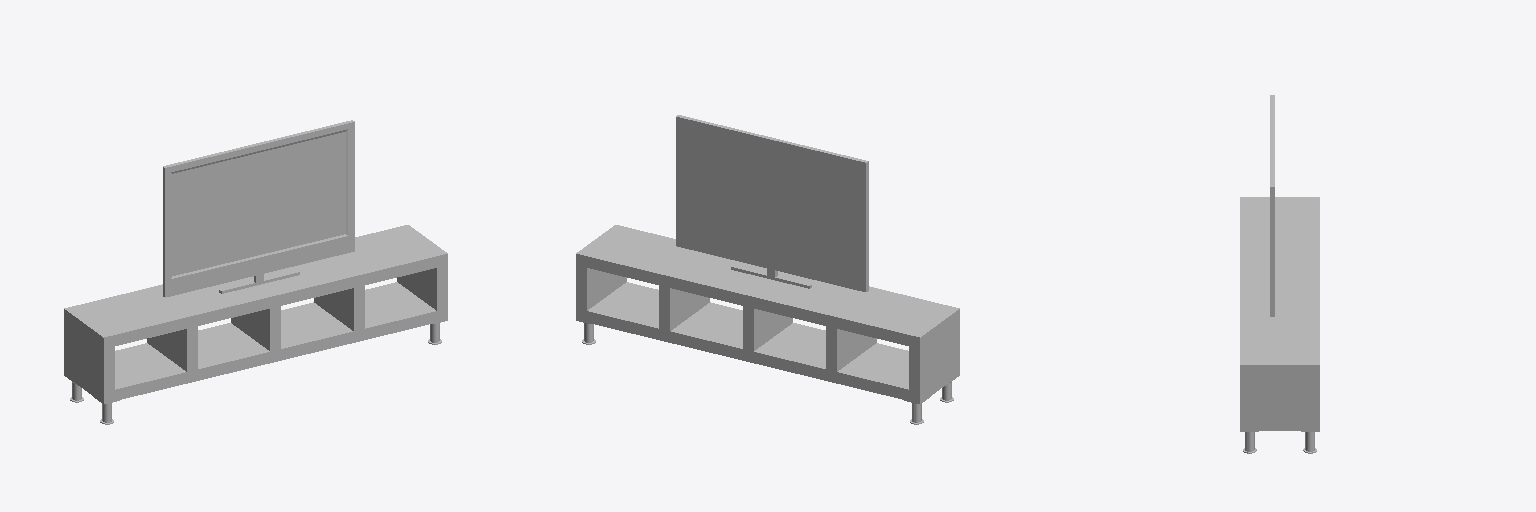
The model's file is tv_with_normals.obj.
3 renders of one model, left to right at view 1: azimuth 30°, elevation 25°; view 2: azimuth 150°, elevation 25°; view 3: azimuth 270°, elevation 25°, orthographic.
Bounding box in the file's own units: 2.5 × 1.59 × 0.5.